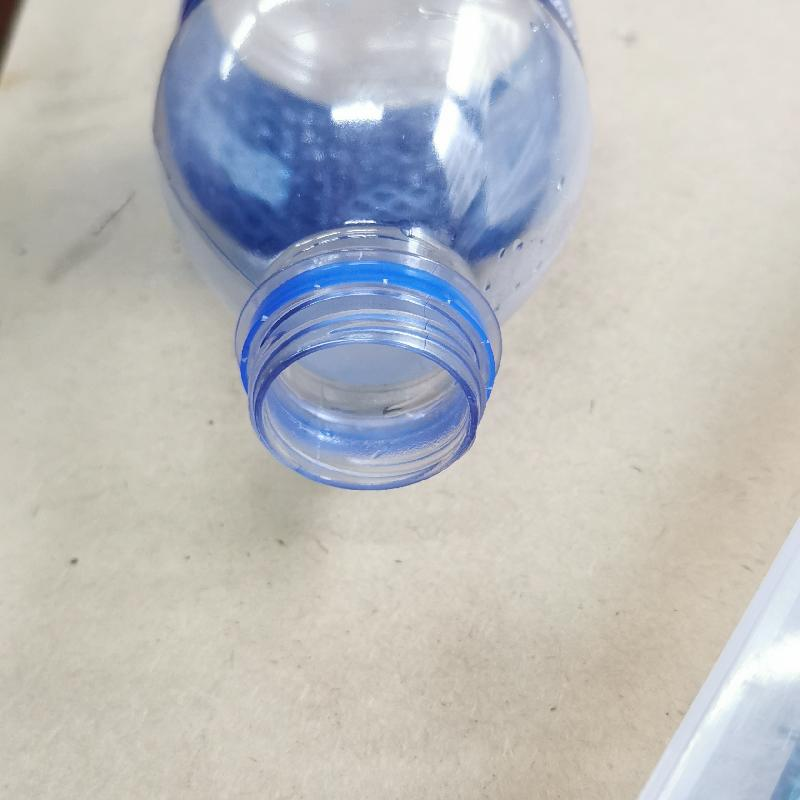bottles: (148, 4, 600, 501)
